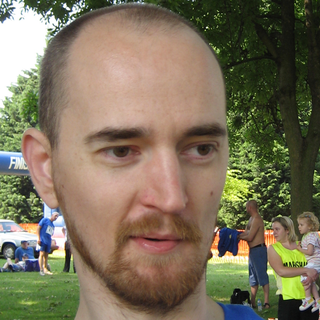eye: (93, 140, 143, 164), (178, 138, 222, 163)
